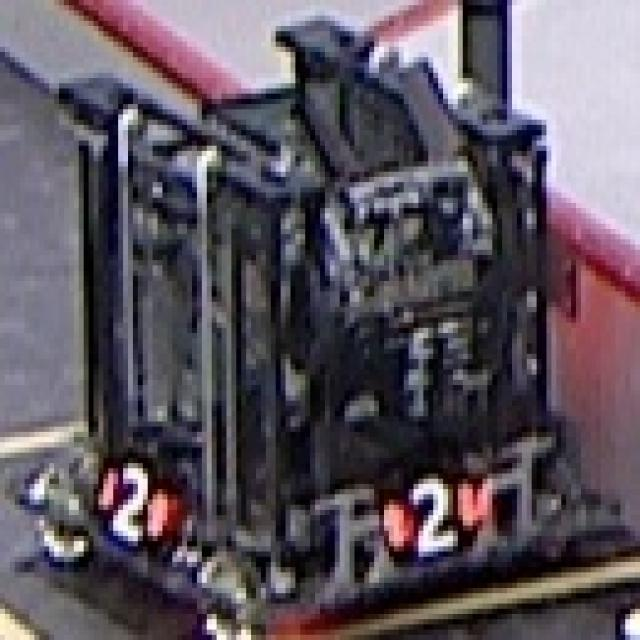R2: (345, 456, 502, 560), (89, 448, 182, 546)
